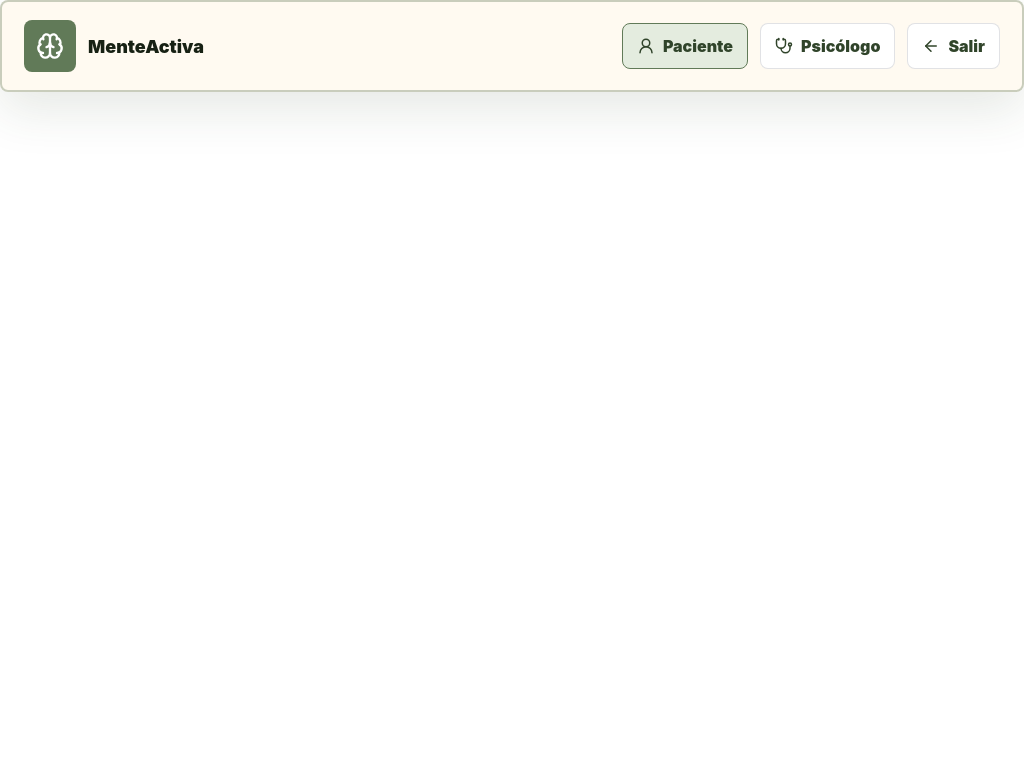
Test: GlobalHeader — cambio de rol con confirmación › paciente ve botón Psicólogo y abre confirmación al presionarlo
Click the button with aria-label "Cambiar a cuenta de Psicólogo": (828,46) [760,23,895,69]
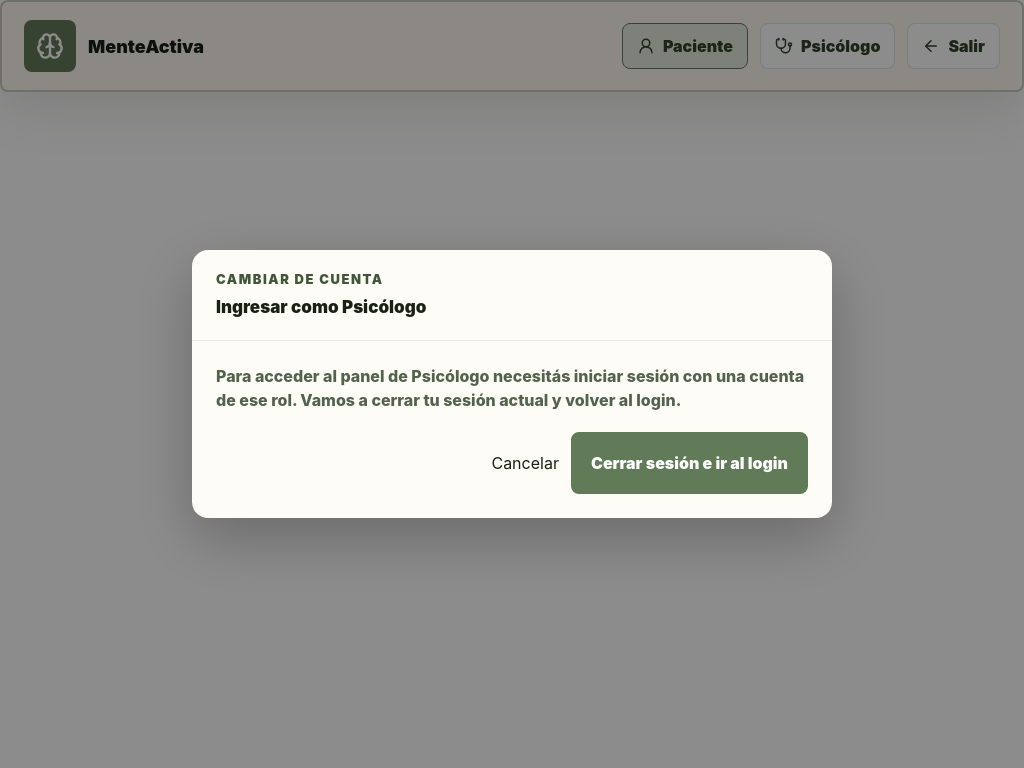
Expected: the heading "Ingresar como Psicólogo" is shown, [216,295,426,320]
